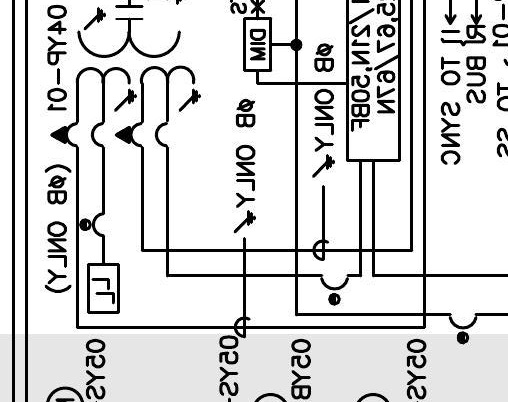115_cvt_1p: (50, 4, 202, 150)
DIM: (243, 17, 273, 72)
LL: (87, 263, 121, 314)
